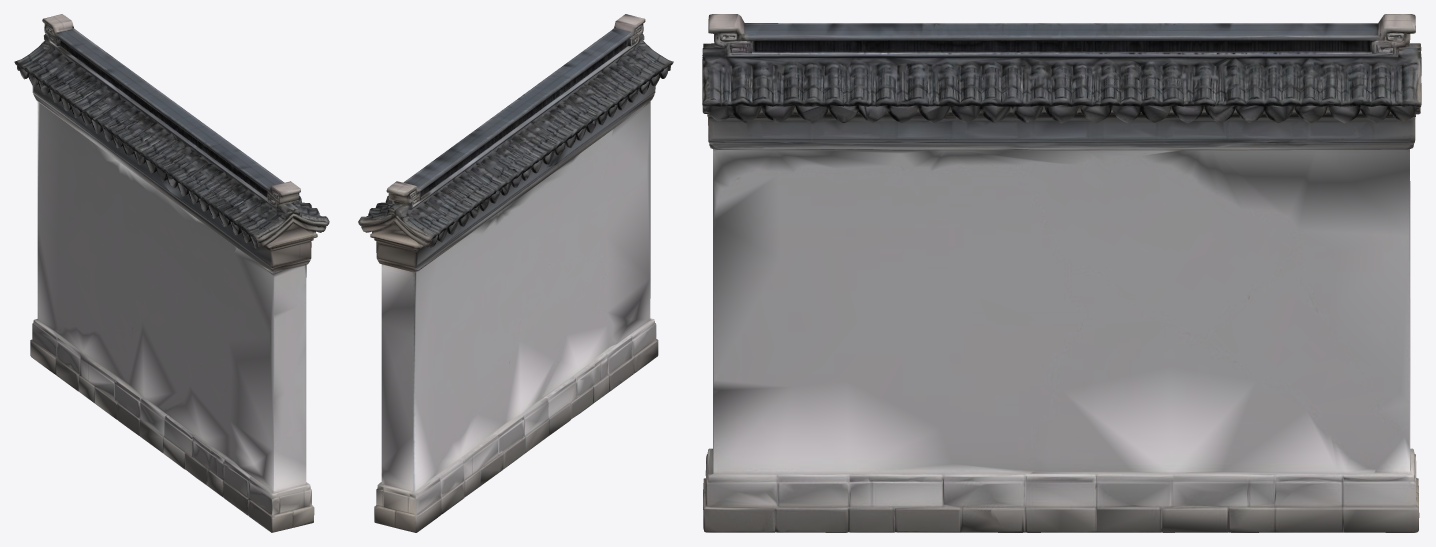
The model's file is wall.glb.
The picture shows the model from 3 angles, left to right: view 1: azimuth 30°, elevation 25°; view 2: azimuth 150°, elevation 25°; view 3: azimuth 270°, elevation 25°; orthographic projection. The views are drawn at different scales.
Parts seen in each view (by area): view 1: node_0; view 2: node_0; view 3: node_0.
Boxes of the visible parts, <box> form: node_0: <box>14,14,329,532</box>; node_0: <box>358,14,673,532</box>; node_0: <box>702,14,1421,532</box>.
Bounding box in the file's own units: 0.642 × 2.8 × 3.67.
Materials: 1 (1 with a texture image).
